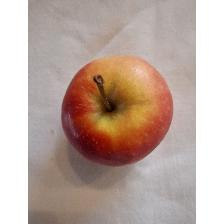Apfel: (61, 54, 176, 168)
